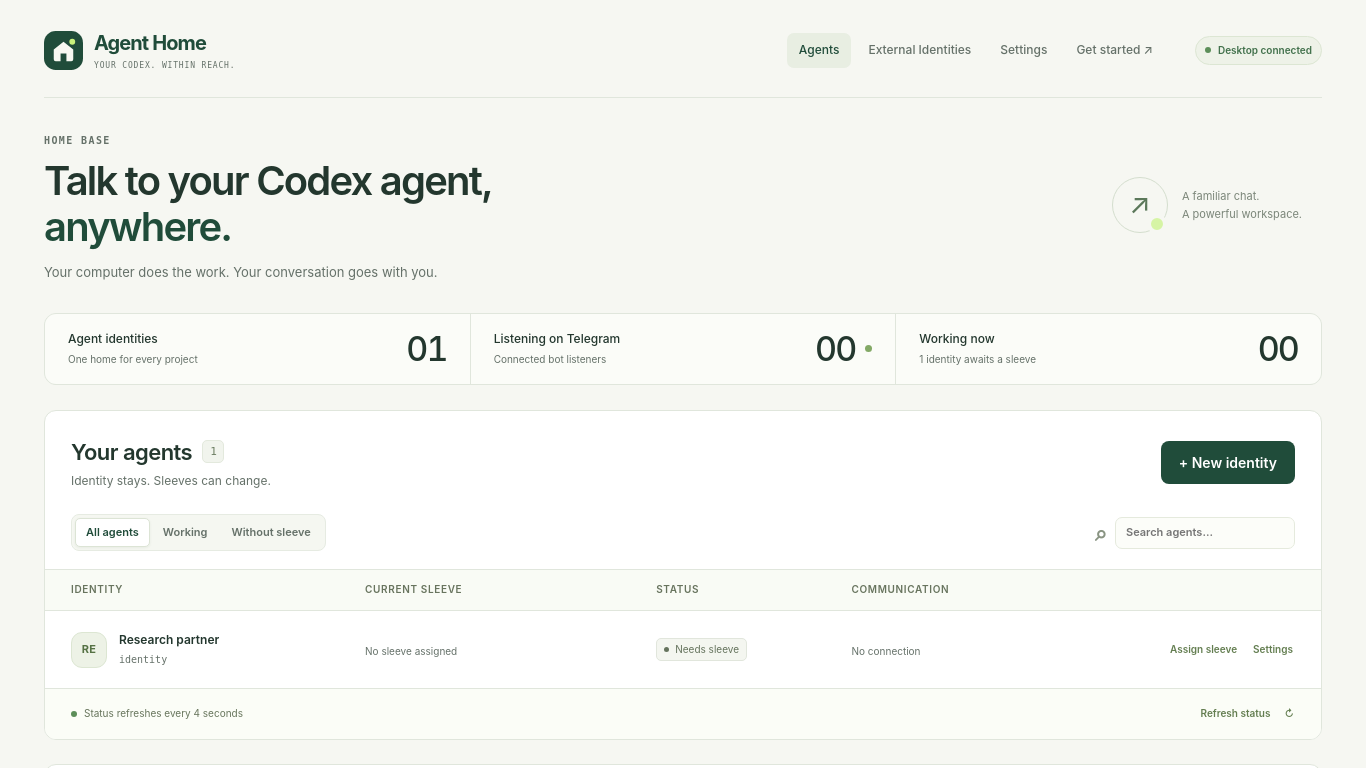
Test case: identity dashboard › opens external identity management through top-level navigation
The width and height of the screenshot is (1366, 768).
Click the link with id "external-identities". click: click(920, 50)
box: top-left (868, 42), bottom-right (971, 57)
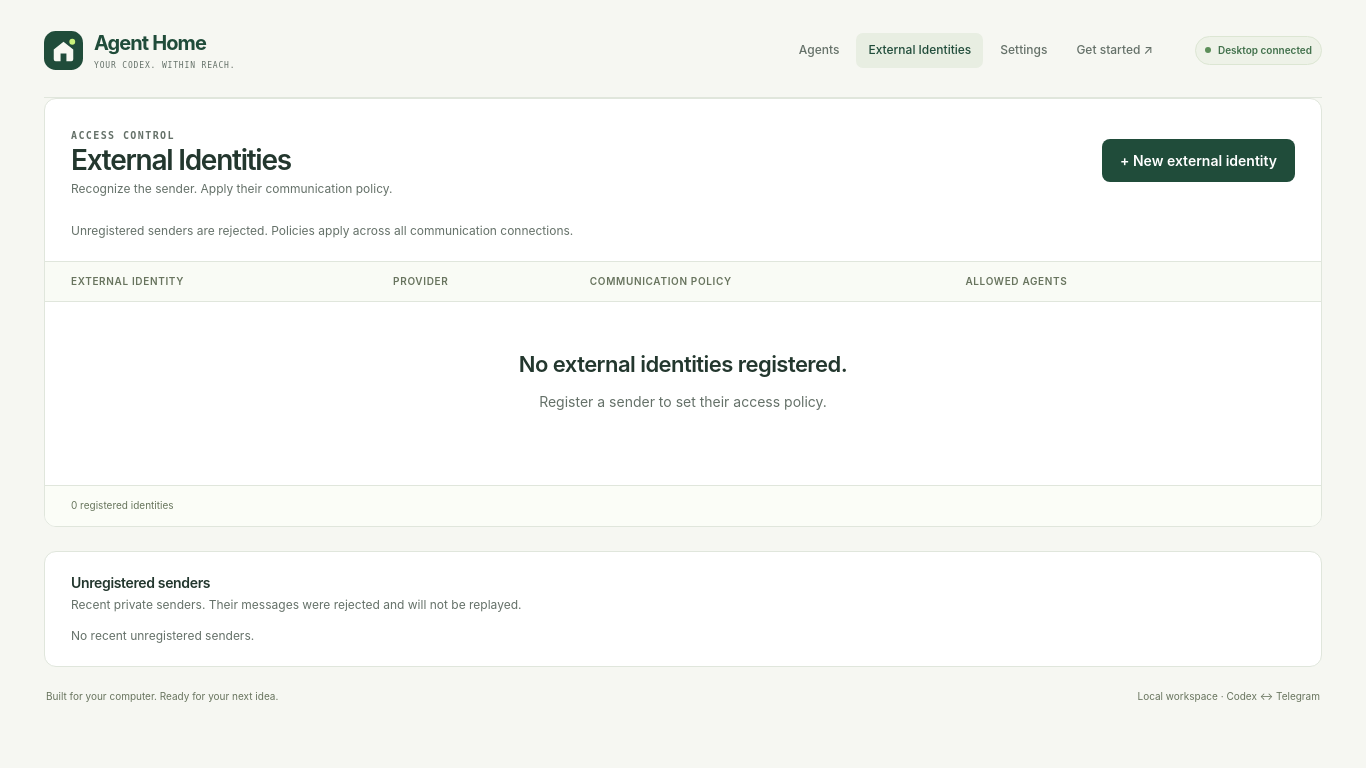
Check: the heading "External Identities" is shown, box top-left (71, 144), bottom-right (291, 178)
Check: the text "Unregistered senders are rejected." is shown, box top-left (71, 223), bottom-right (573, 238)
Click the button "+ New external identity". click: click(1198, 161)
box: top-left (1102, 139), bottom-right (1295, 182)
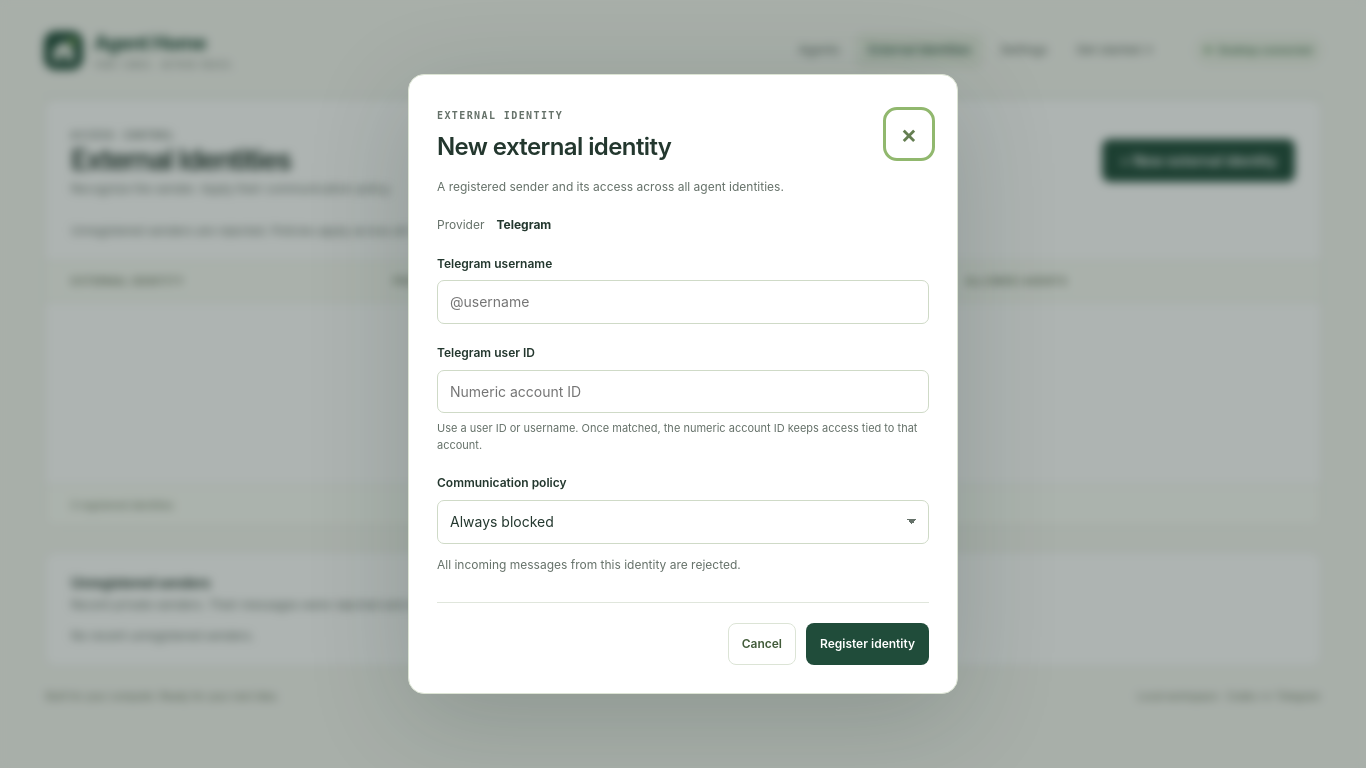
Check: the dialog shows "New external identity", box top-left (437, 132), bottom-right (671, 161)
